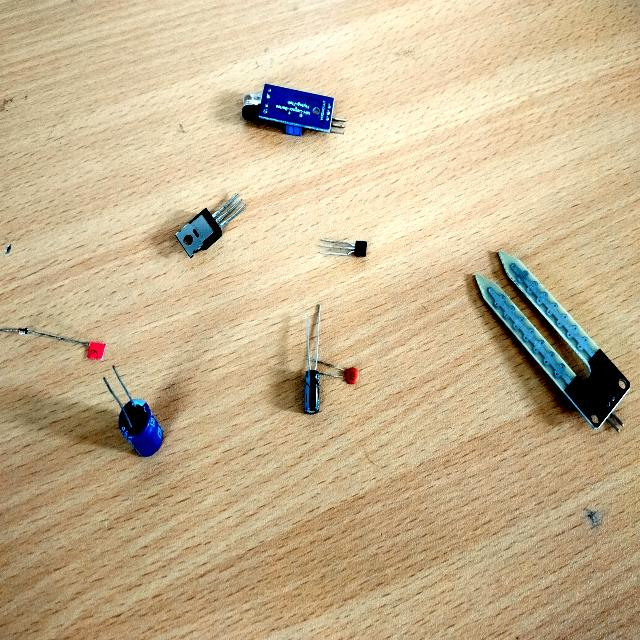capacitor: (119, 399, 162, 457), (305, 370, 319, 415), (340, 367, 359, 384)
